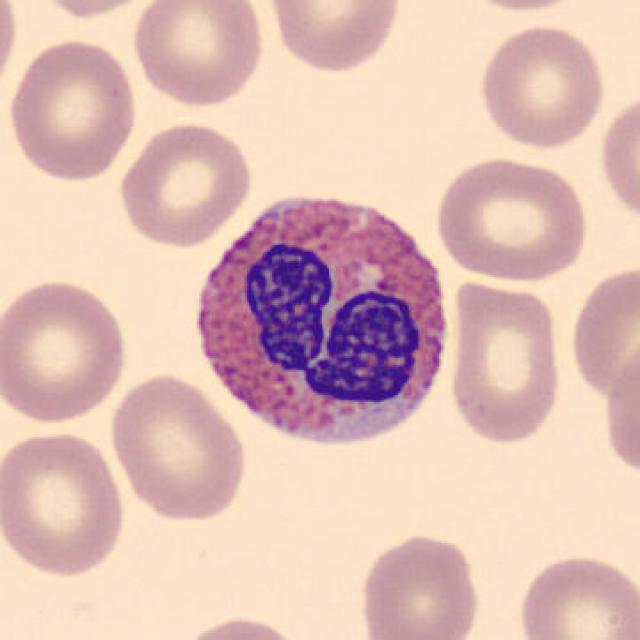Eosinophil: (182, 173, 460, 462)
RBC: (105, 370, 251, 526), (428, 153, 592, 284), (444, 275, 566, 448), (4, 34, 142, 185), (0, 273, 132, 427), (0, 427, 130, 580), (114, 118, 256, 250), (475, 20, 608, 152), (126, 0, 268, 109), (354, 529, 484, 640), (514, 548, 638, 640), (262, 0, 406, 76), (566, 259, 638, 404), (599, 328, 640, 487), (596, 85, 638, 229), (169, 612, 309, 640), (25, 0, 167, 21), (0, 0, 21, 104), (448, 0, 594, 14)
